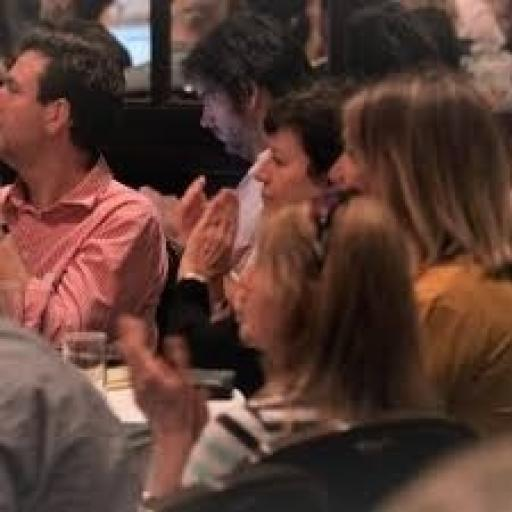clapping: (86, 41, 496, 506)
